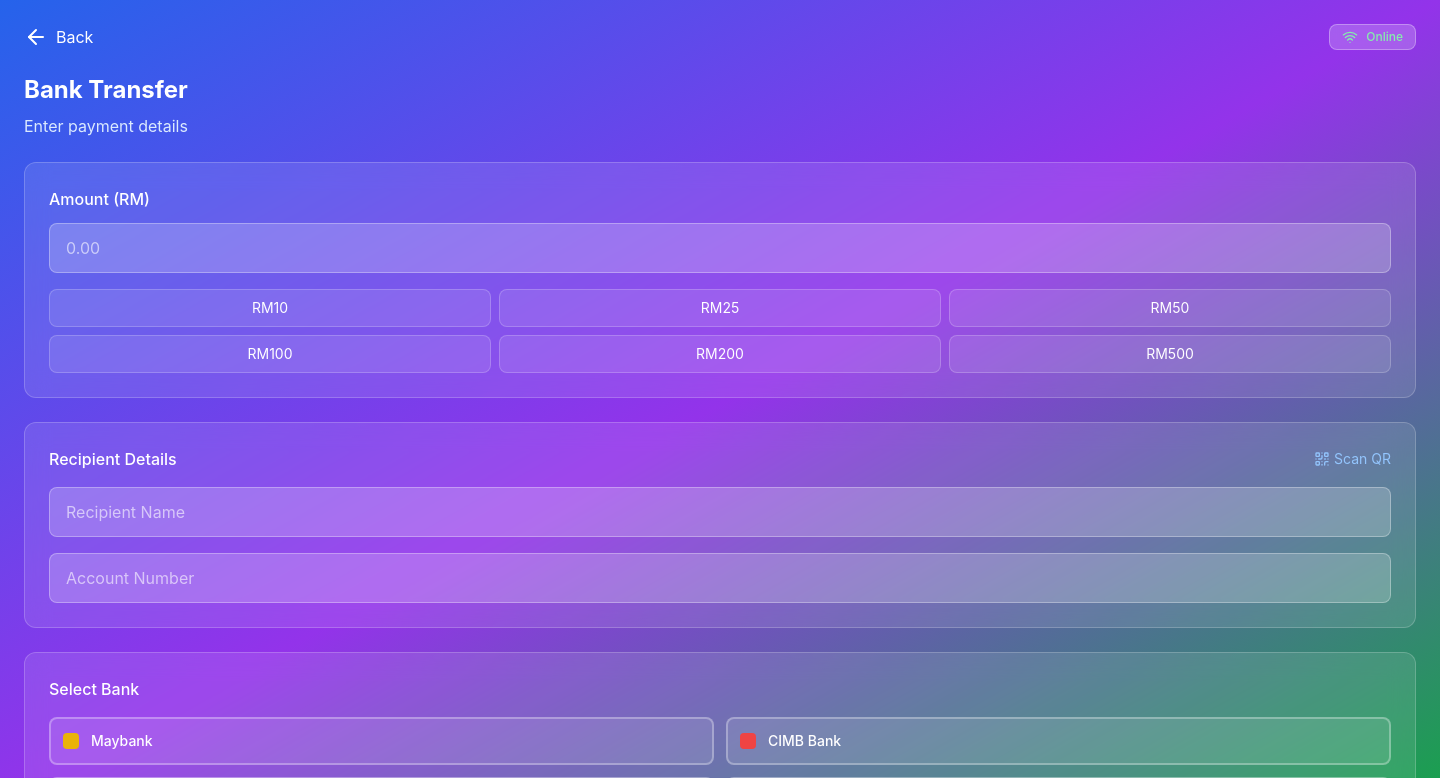
Scenario: Payment Flow Integration › shows quick amount buttons and updates amount
Click the button "RM50": [1170, 308] box [949, 289, 1391, 327]
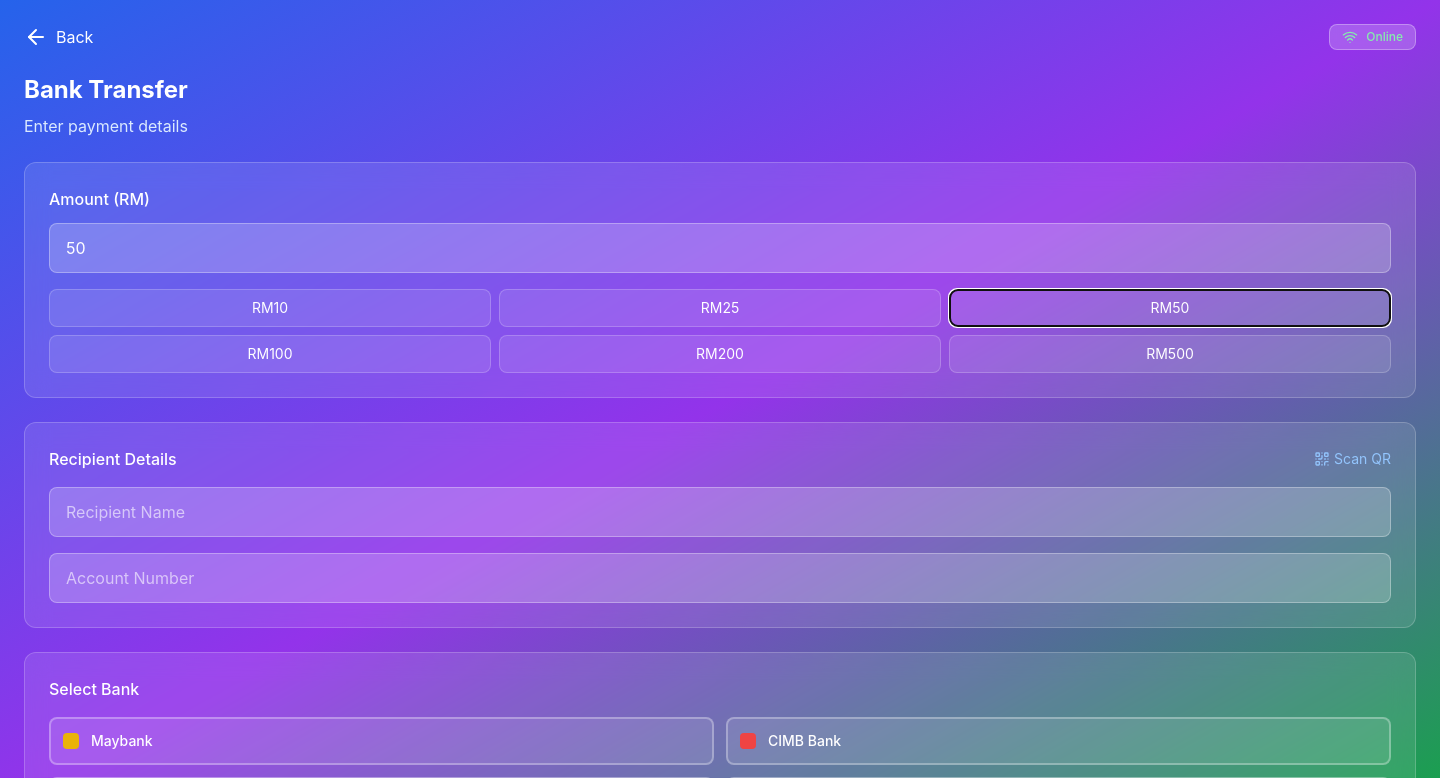
Now the number field with placeholder "0.00" holds "50", box [49, 223, 1391, 273]
